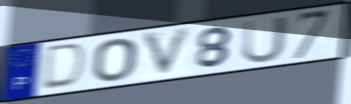7: (292, 8, 334, 61)
8: (195, 26, 232, 69)
D: (39, 41, 89, 92)
O: (91, 37, 139, 83)
U: (241, 14, 289, 66)
V: (139, 25, 195, 80)
